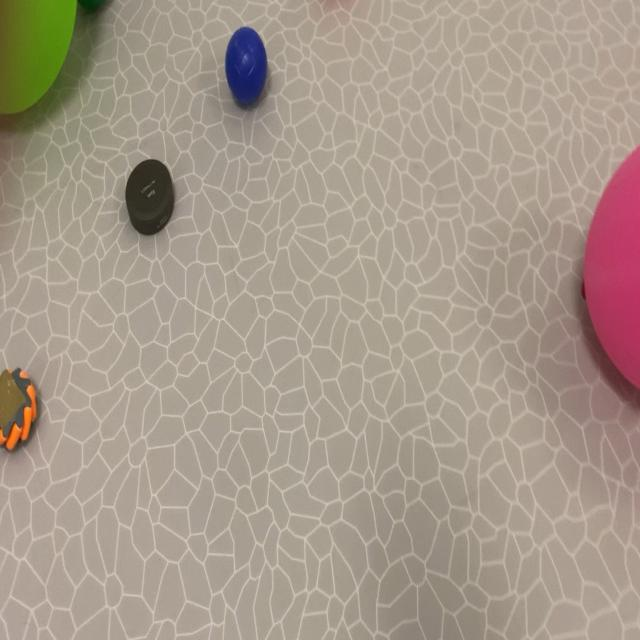green ball: (208, 0, 313, 174)
